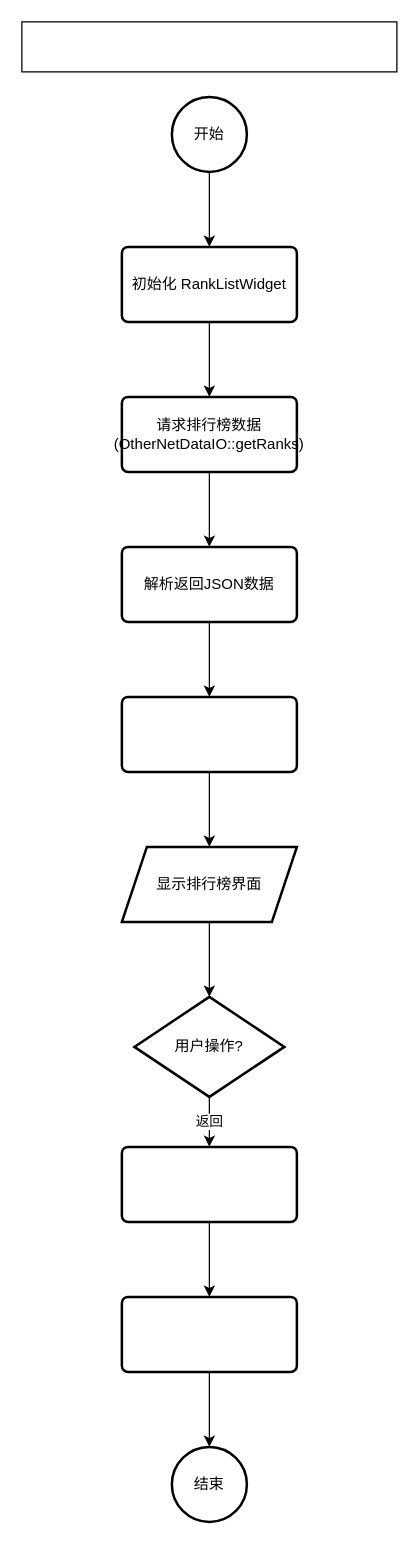
This 419x1545 diagram has some shape labels left out. The shapes that lost their labels are listed below. From the top down, each one's centre as x and y in pixels, then its label:
[209,46]: 排行榜模块流程图
[209,733]: 更新表格数据 (普通/旋风/多人)
[209,1183]: 点击返回
[209,1333]: 切换回主菜单
